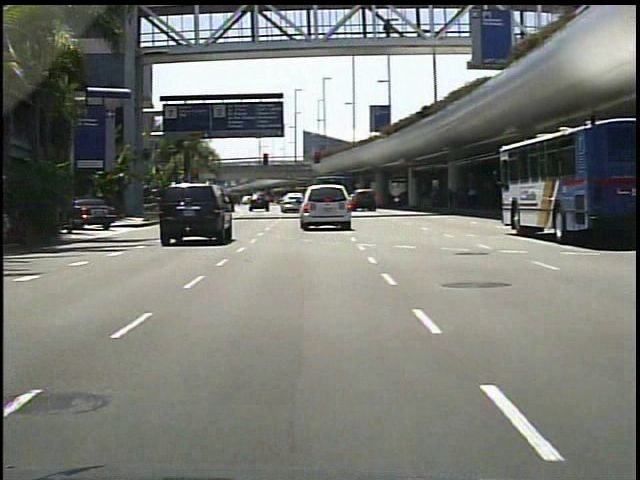person: (374, 20, 392, 44)
